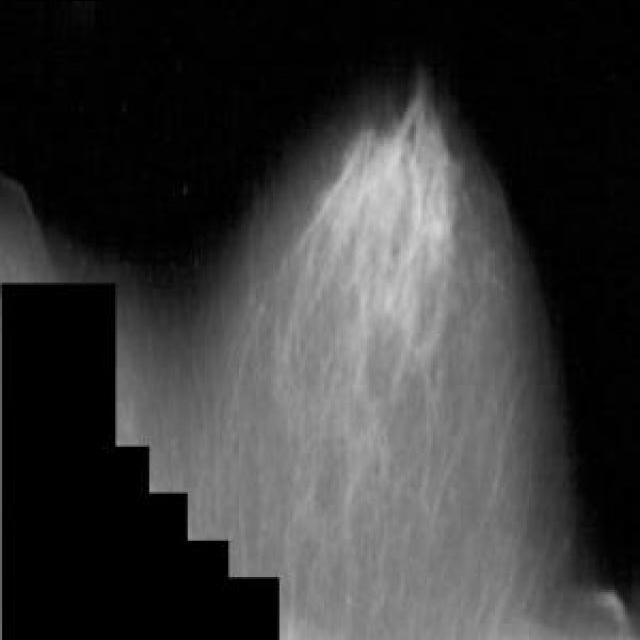tumor: (296, 110, 467, 327)
